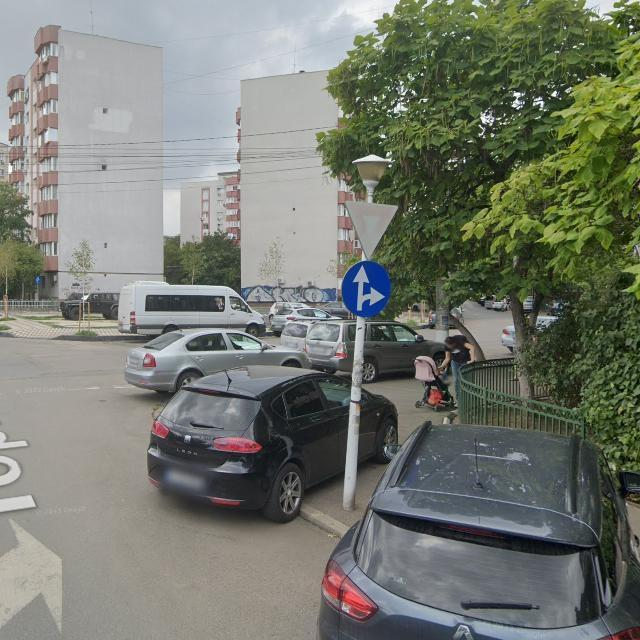prio_give_way: (346, 199, 399, 260)
